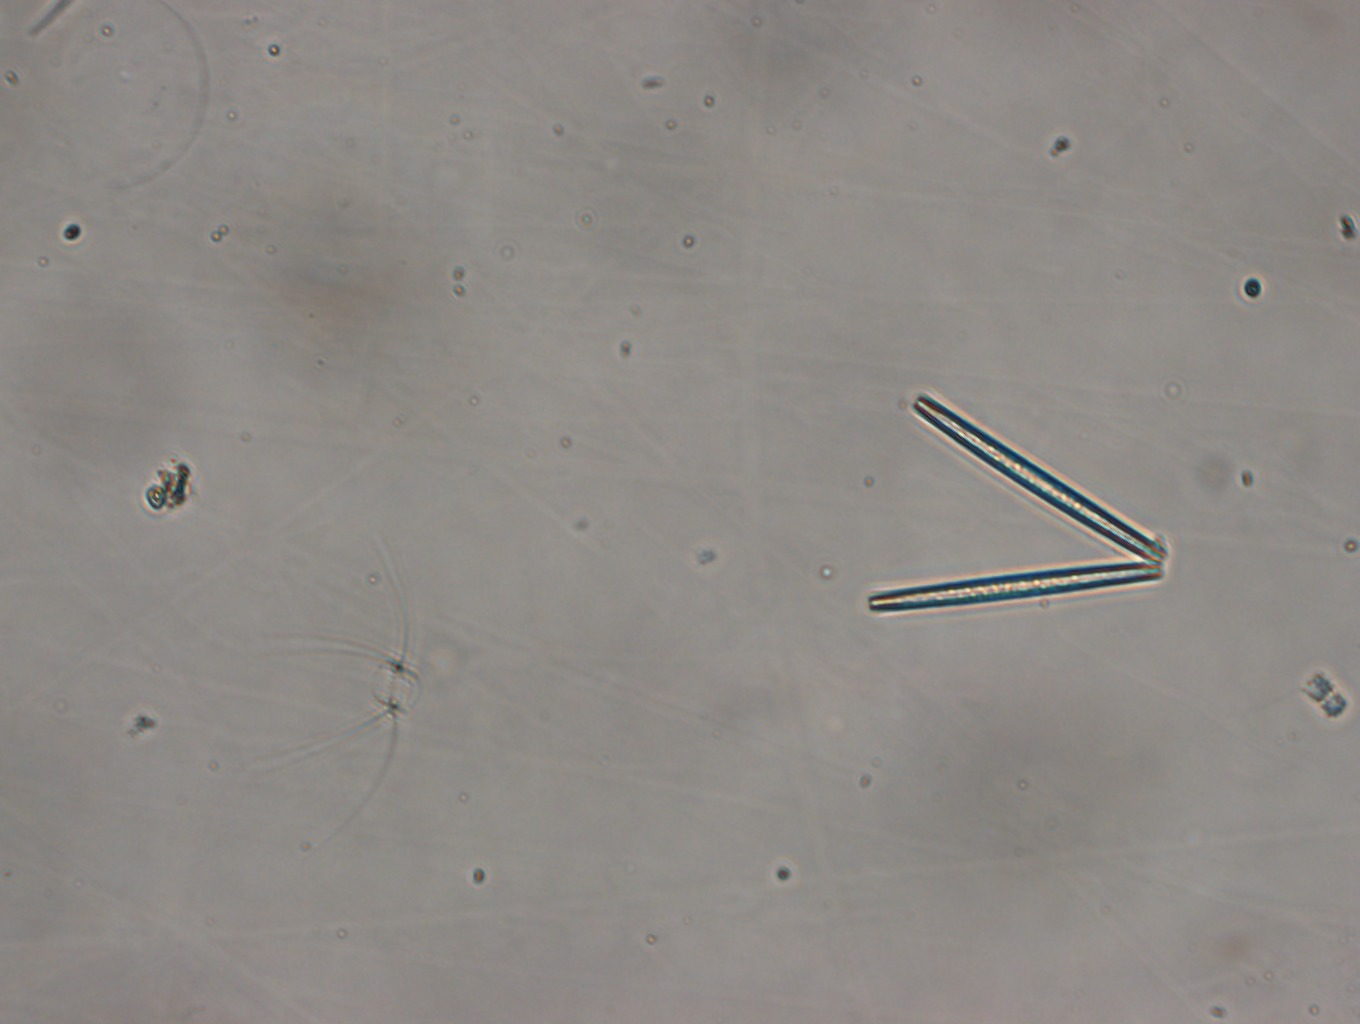thalassionema nitzschioides: (860, 388, 1172, 614)
